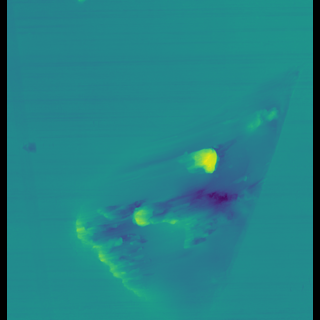Loch: (68, 95, 279, 300)
